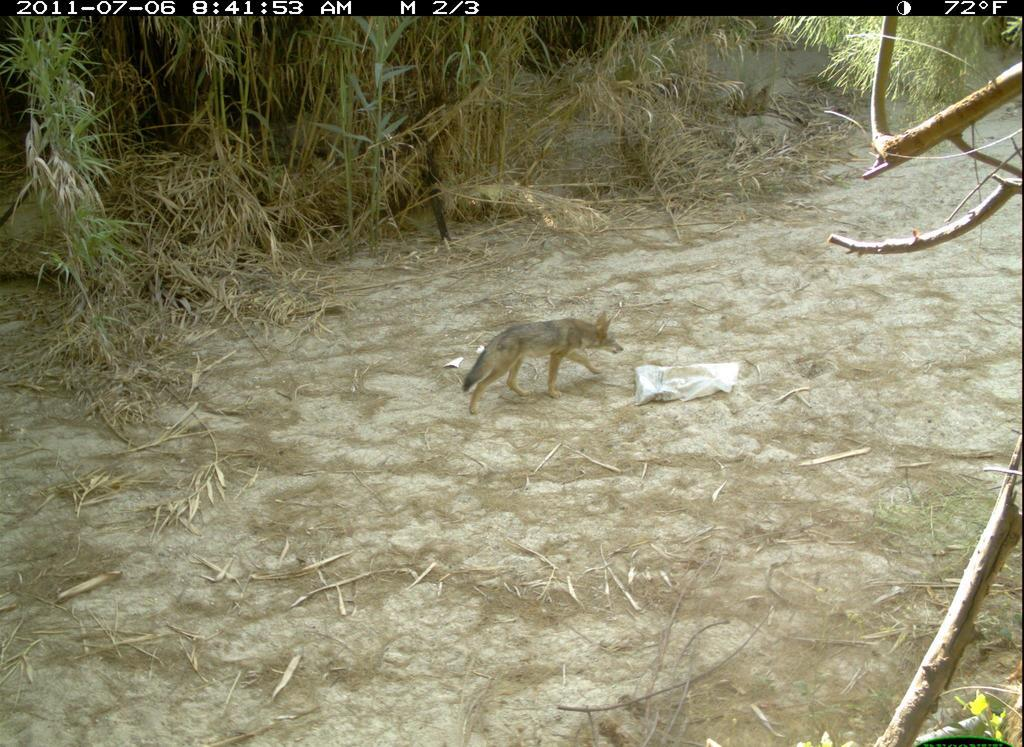coyote: (457, 305, 643, 419)
